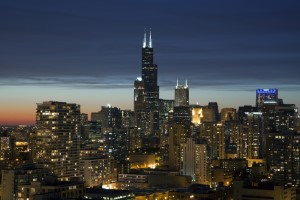willis: (132, 17, 162, 115)
